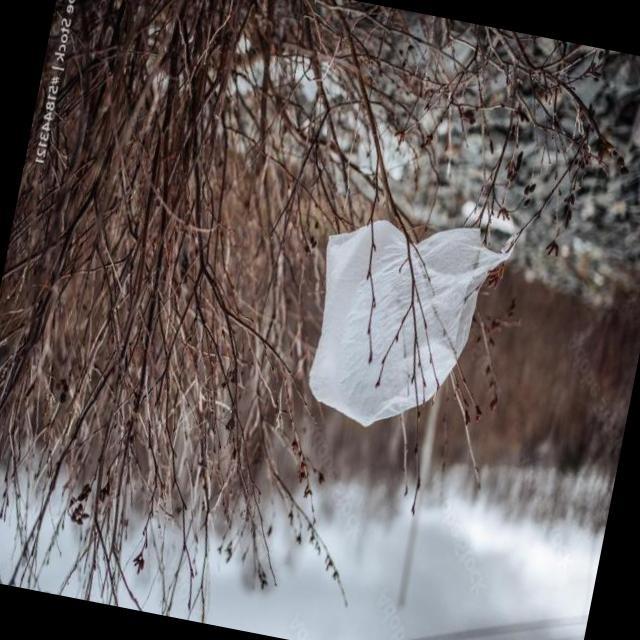KantongPlastik: (290, 198, 518, 451)
